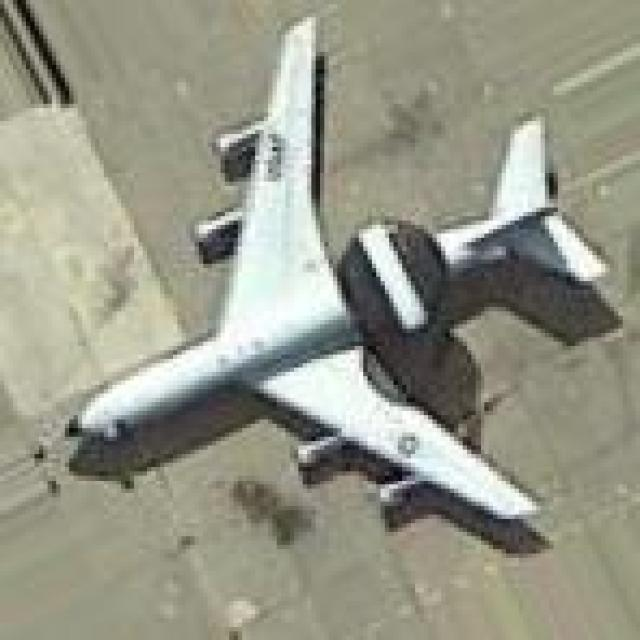E-3_TopDown: (56, 9, 623, 558)
